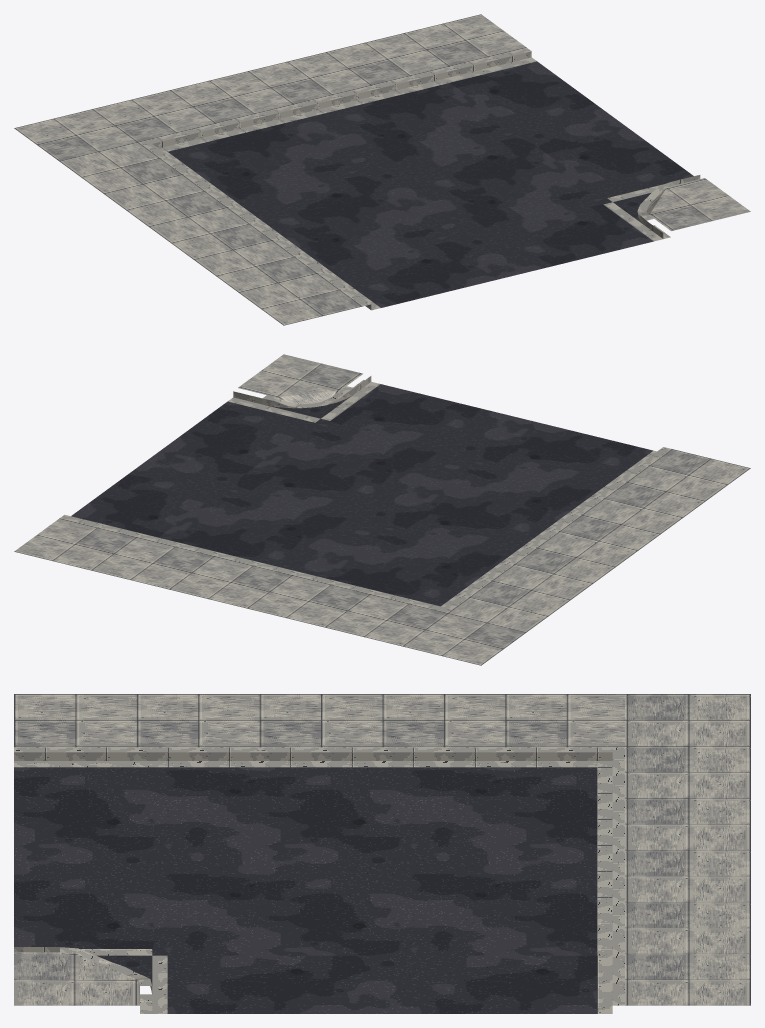
File: RD_Corner_Sharp_12m.obj
The picture shows the model from 3 angles, top to bottom: view 1: azimuth 30°, elevation 25°; view 2: azimuth 150°, elevation 25°; view 3: azimuth 270°, elevation 25°; orthographic projection. The views are drawn at different scales.
Parts seen in each view (by area): view 1: RD_Corner_Sharp_12m_Mesh_M_Road_Asphalt, RD_Corner_Sharp_12m_Mesh_M_Road_SidewalkConcrete, RD_Corner_Sharp_12m_Mesh_M_Road_CurbConcrete; view 2: RD_Corner_Sharp_12m_Mesh_M_Road_Asphalt, RD_Corner_Sharp_12m_Mesh_M_Road_SidewalkConcrete, RD_Corner_Sharp_12m_Mesh_M_Road_CurbConcrete; view 3: RD_Corner_Sharp_12m_Mesh_M_Road_Asphalt, RD_Corner_Sharp_12m_Mesh_M_Road_SidewalkConcrete, RD_Corner_Sharp_12m_Mesh_M_Road_CurbConcrete.
Part boxes in pixels (x1,y1,x2,y2): RD_Corner_Sharp_12m_Mesh_M_Road_Asphalt: (168, 61, 693, 307); RD_Corner_Sharp_12m_Mesh_M_Road_SidewalkConcrete: (14, 14, 750, 325); RD_Corner_Sharp_12m_Mesh_M_Road_CurbConcrete: (140, 48, 700, 310); RD_Corner_Sharp_12m_Mesh_M_Road_Asphalt: (71, 384, 652, 606); RD_Corner_Sharp_12m_Mesh_M_Road_SidewalkConcrete: (14, 354, 750, 665); RD_Corner_Sharp_12m_Mesh_M_Road_CurbConcrete: (60, 376, 670, 612); RD_Corner_Sharp_12m_Mesh_M_Road_Asphalt: (14, 767, 597, 1013); RD_Corner_Sharp_12m_Mesh_M_Road_SidewalkConcrete: (14, 694, 750, 1005); RD_Corner_Sharp_12m_Mesh_M_Road_CurbConcrete: (14, 747, 624, 1013).
Bounding box in the file's own units: 12 × 0.15 × 12.
3 materials, 3 textured.
